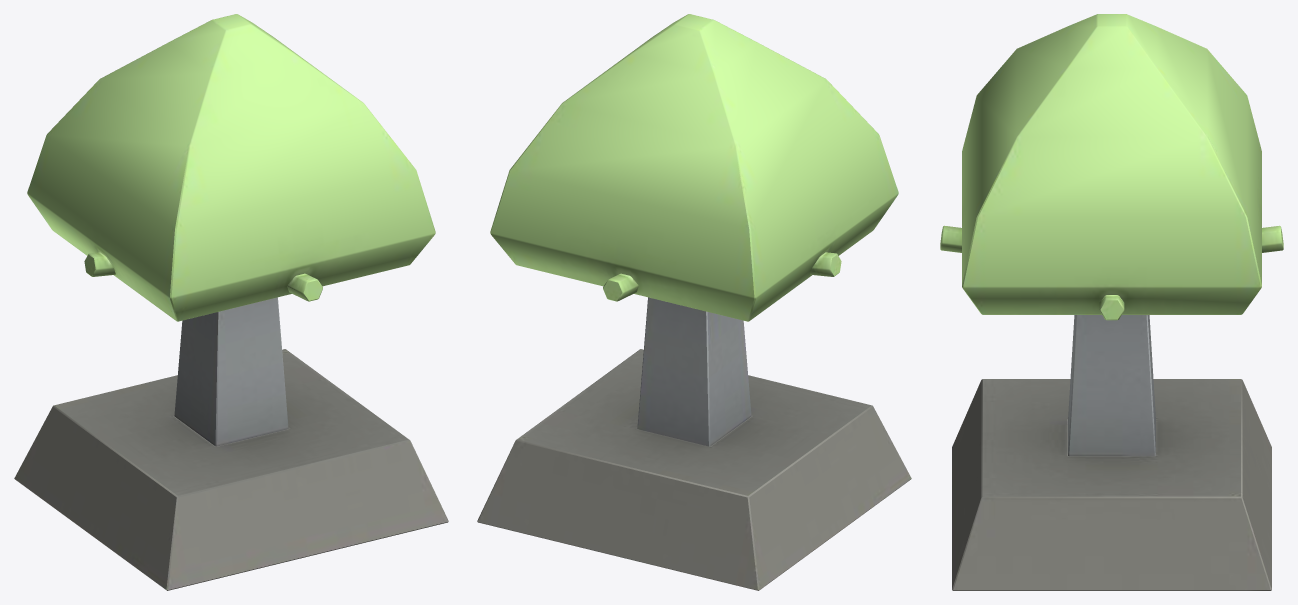
The model's file is IT_glow_mushroom.glb.
The picture shows the model from 3 angles, left to right: view 1: azimuth 30°, elevation 25°; view 2: azimuth 150°, elevation 25°; view 3: azimuth 270°, elevation 25°; orthographic projection. The views are drawn at different scales.
Visible parts, largest first — view 1: IT_glow_mushroom; view 2: IT_glow_mushroom; view 3: IT_glow_mushroom.
Boxes of the visible parts, left/top/right/bottom form: IT_glow_mushroom: left=14, top=14, right=448, bottom=590; IT_glow_mushroom: left=477, top=14, right=911, bottom=590; IT_glow_mushroom: left=940, top=14, right=1283, bottom=590.
Size of the model in its own units: 0.3427 by 0.55 by 0.3427.
Materials: 1 (1 with a texture image).
